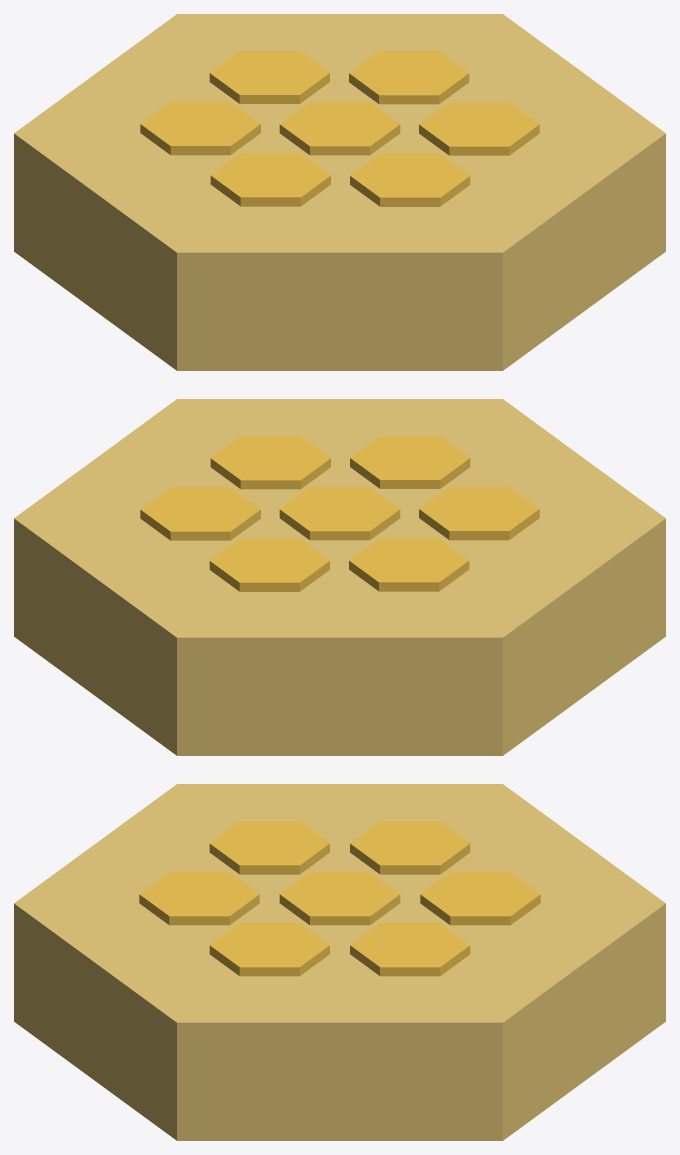
The model's file is honeycomb_held.gltf.
3 renders of one model, top to bottom at view 1: azimuth 30°, elevation 25°; view 2: azimuth 150°, elevation 25°; view 3: azimuth 270°, elevation 25°, orthographic.
Visible parts, largest first — view 1: bees_honeycomb_held; view 2: bees_honeycomb_held; view 3: bees_honeycomb_held.
Part boxes in pixels (left/top/right/bottom): bees_honeycomb_held: left=14, top=14, right=665, bottom=370; bees_honeycomb_held: left=14, top=399, right=665, bottom=755; bees_honeycomb_held: left=14, top=784, right=665, bottom=1140.
Bounding box in the file's own units: 0.1126 × 0.03 × 0.13.
